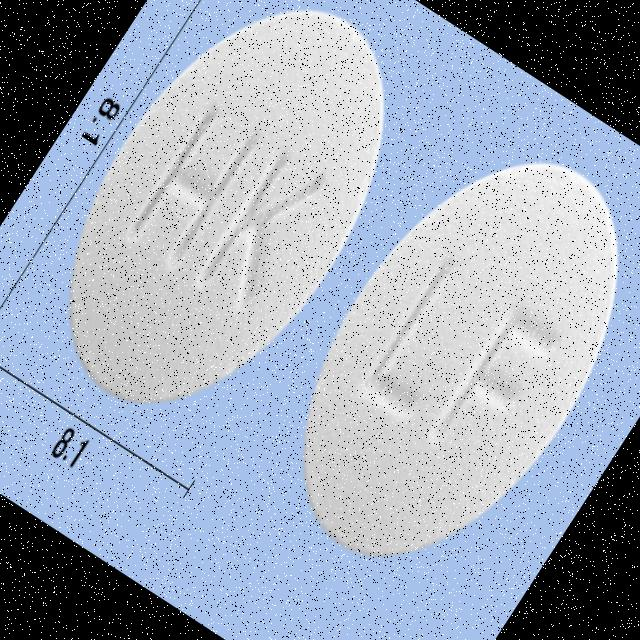Levotacin: (6, 0, 451, 456), (241, 104, 640, 607)
